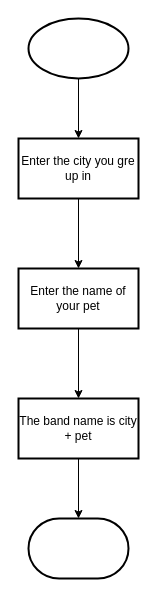
Image size: 156x596. Some labels were removed from this diagram. The shapes that lost their labels are listed below. From the top down, each one's centre as x and y in pixels, then its label:
pixel 78 48: Start
pixel 78 548: End
